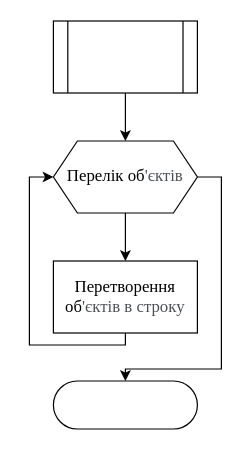
Some shapes in this 252 by 450 pixel diagram are drawn without their labels. The shapes that lost their labels are listed below. From the top down, each one's box as (x1, y1, x2, y2) in pixels, then its label:
(52, 20, 197, 93): ` toClass `
(52, 380, 197, 429): Кінець
